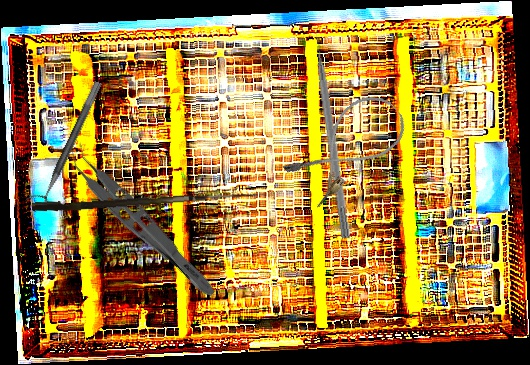Cannula: (280, 84, 414, 210)
Fixation Ring: (25, 75, 103, 210)
Hook Surgical: (31, 183, 257, 216)
Pusher: (311, 27, 353, 239)
Tissue Forceps: (58, 139, 230, 302)
